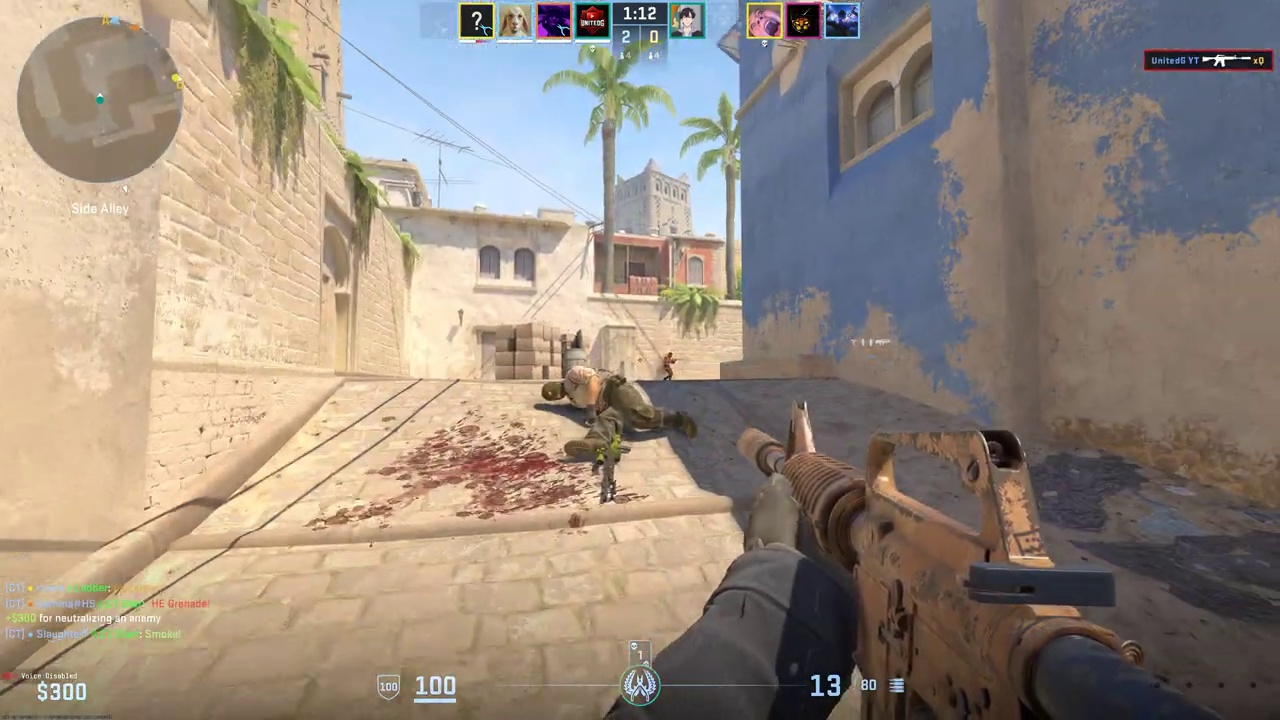Terrorist: (663, 352, 676, 380)
